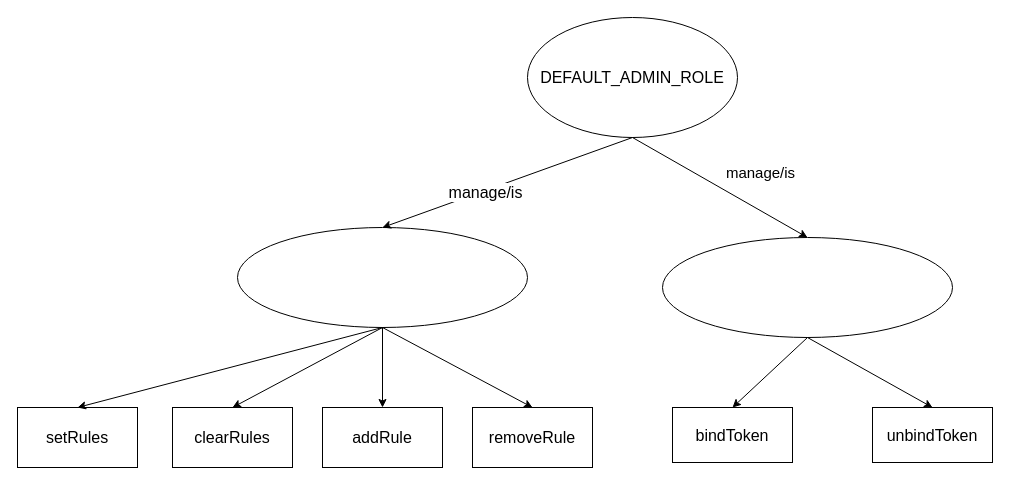
Image size: 1010x485. Some labels were removed from this diagram. Here are the shapes that lost their labels. From the top down, the centre of each, then its label:
the point at 382,277: RULES_MANAGEMENT_ROLE
the point at 807,287: ERC3643ComplianceModule
